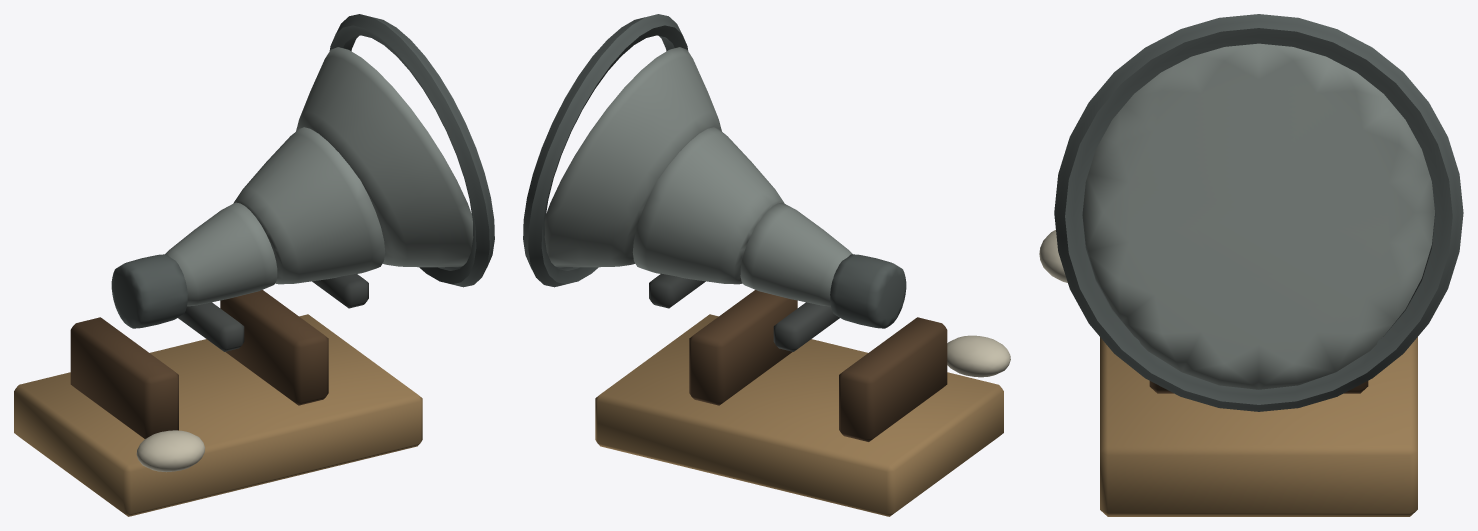
Rendered from echo_horn_a.glb.
3 views of the same model, side by side, from view 1: azimuth 30°, elevation 25°; view 2: azimuth 150°, elevation 25°; view 3: azimuth 270°, elevation 25° (orthographic). The views are drawn at different scales.
Parts seen in each view (by area): view 1: Surface; view 2: Surface; view 3: Surface.
Part boxes in pixels (x1=…): Surface: x1=14, y1=14, x2=494, y2=516; Surface: x1=523, y1=14, x2=1010, y2=516; Surface: x1=1039, y1=14, x2=1463, y2=516.
Bounding box in the file's own units: 3.02 × 2.88 × 2.13.
